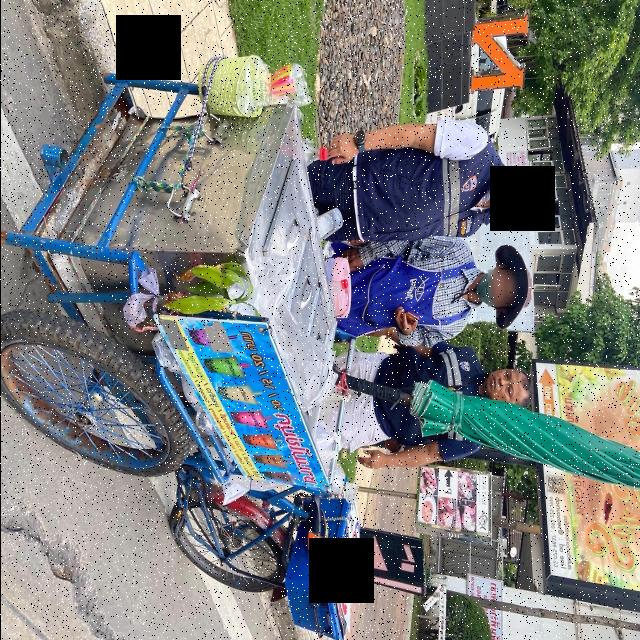food-booth: (0, 54, 358, 640)
